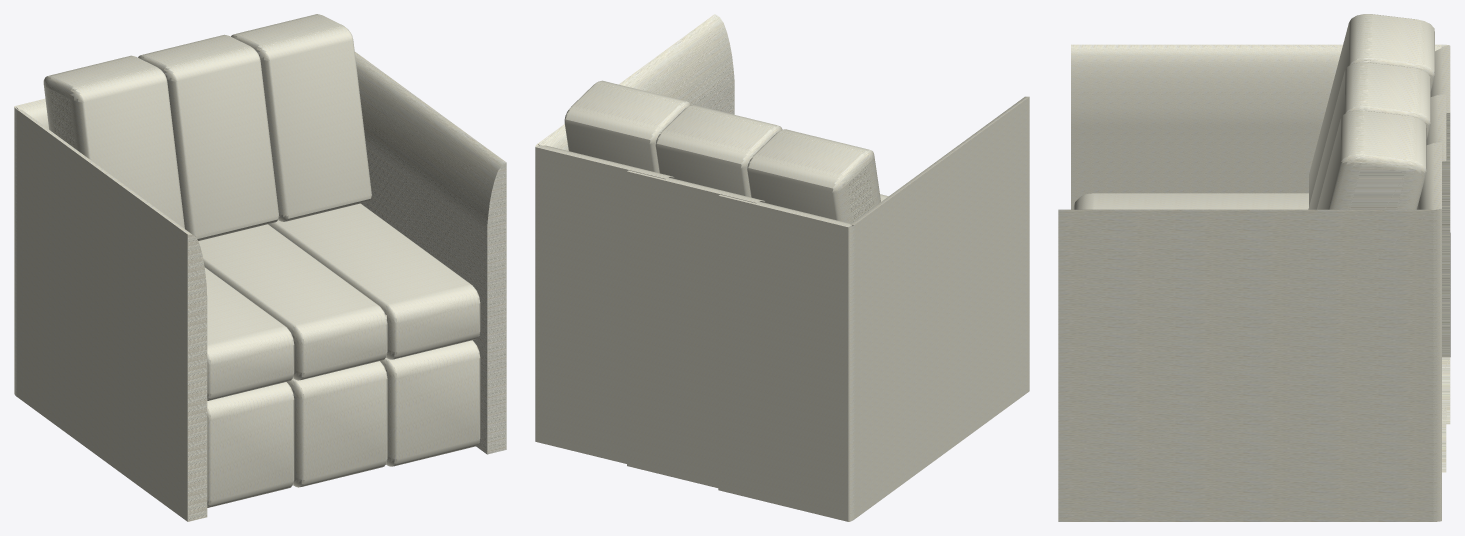
File: sh-contrib-sofa1.glb
3 renders of one model, left to right at view 1: azimuth 30°, elevation 25°; view 2: azimuth 150°, elevation 25°; view 3: azimuth 270°, elevation 25°, orthographic. The views are drawn at different scales.
Visible parts, largest first — view 1: Sofa1b3_1_1; view 2: Sofa1b3_1_1; view 3: Sofa1b3_1_1.
Part boxes in pixels (box(x1,y1,x2,y2)): Sofa1b3_1_1: box(14, 14, 506, 521); Sofa1b3_1_1: box(535, 14, 1029, 521); Sofa1b3_1_1: box(1058, 14, 1450, 521).
Bounding box in the file's own units: 1 × 1 × 1.
Materials: 1 (1 with a texture image).
